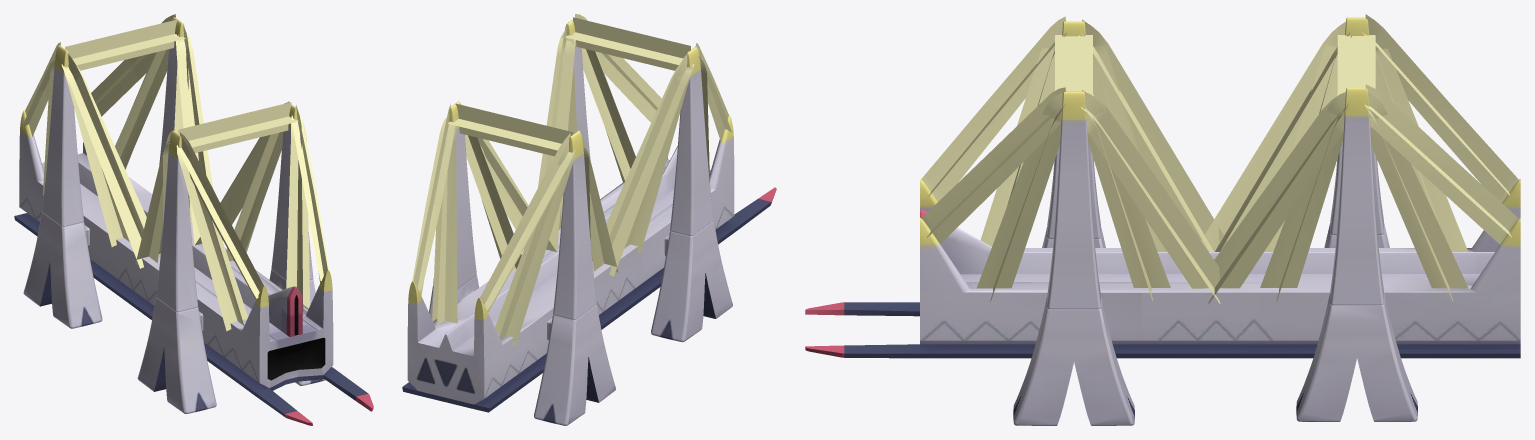
File: ArchaludonCharging.glb
3 renders of one model, left to right at view 1: azimuth 30°, elevation 25°; view 2: azimuth 150°, elevation 25°; view 3: azimuth 270°, elevation 25°, orthographic. The views are drawn at different scales.
Parts seen in each view (by area): view 1: pm1132_00_00_right_hand_mesh_shape, pm1132_00_00_effect_a_mesh_shape; view 2: pm1132_00_00_right_hand_mesh_shape, pm1132_00_00_effect_a_mesh_shape; view 3: pm1132_00_00_right_hand_mesh_shape, pm1132_00_00_effect_a_mesh_shape.
Part boxes in pixels (box(x1,y1,x2,y2)): pm1132_00_00_right_hand_mesh_shape: box(14, 17, 373, 425); pm1132_00_00_effect_a_mesh_shape: box(23, 14, 329, 331); pm1132_00_00_right_hand_mesh_shape: box(402, 20, 776, 425); pm1132_00_00_effect_a_mesh_shape: box(412, 14, 731, 345); pm1132_00_00_right_hand_mesh_shape: box(805, 17, 1520, 425); pm1132_00_00_effect_a_mesh_shape: box(921, 14, 1518, 304).
Bounding box in the file's own units: 1.04 × 1.77 × 3.45.
3 materials, 2 textured.
